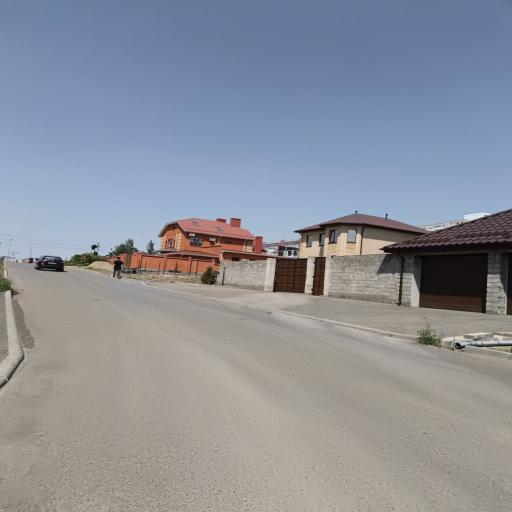construction_fence: (127, 279, 417, 341), (0, 291, 24, 387)
laptop: (113, 258, 123, 278)
ramp: (0, 265, 511, 511)
shelf: (148, 283, 511, 336)
